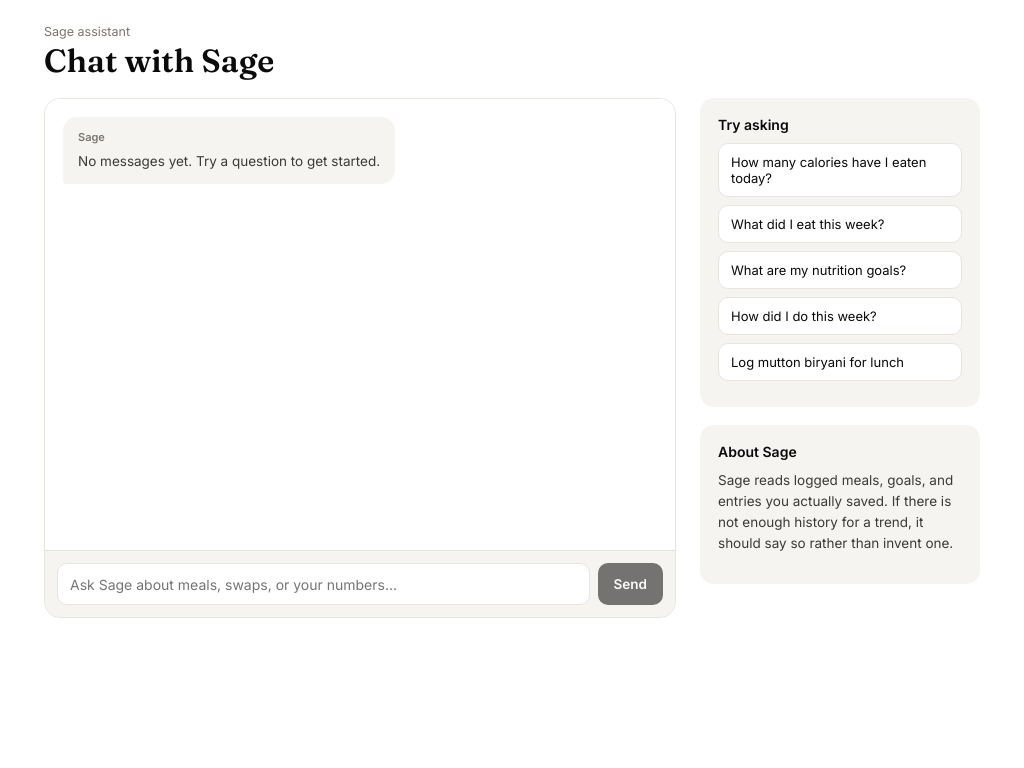
ChatPage › shows an API error
Type "Hello" into the field named "Message". click: point(323, 584)
box: [57, 563, 590, 605]
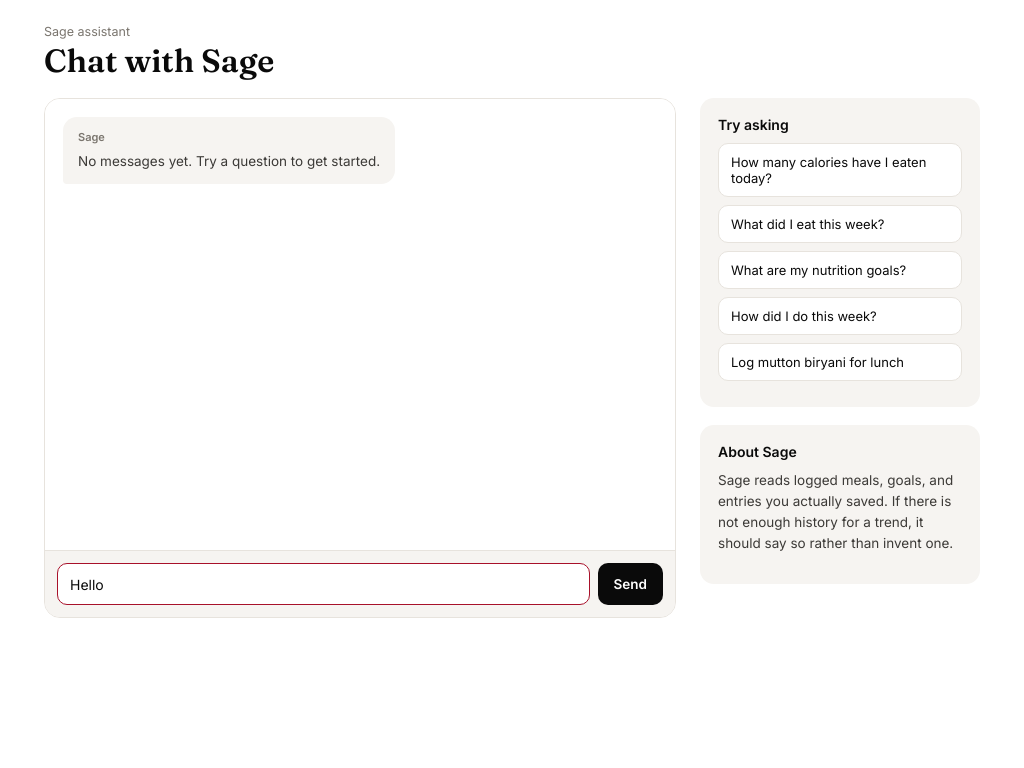
Click the button "Send". click: point(630, 584)
box: [598, 563, 663, 605]
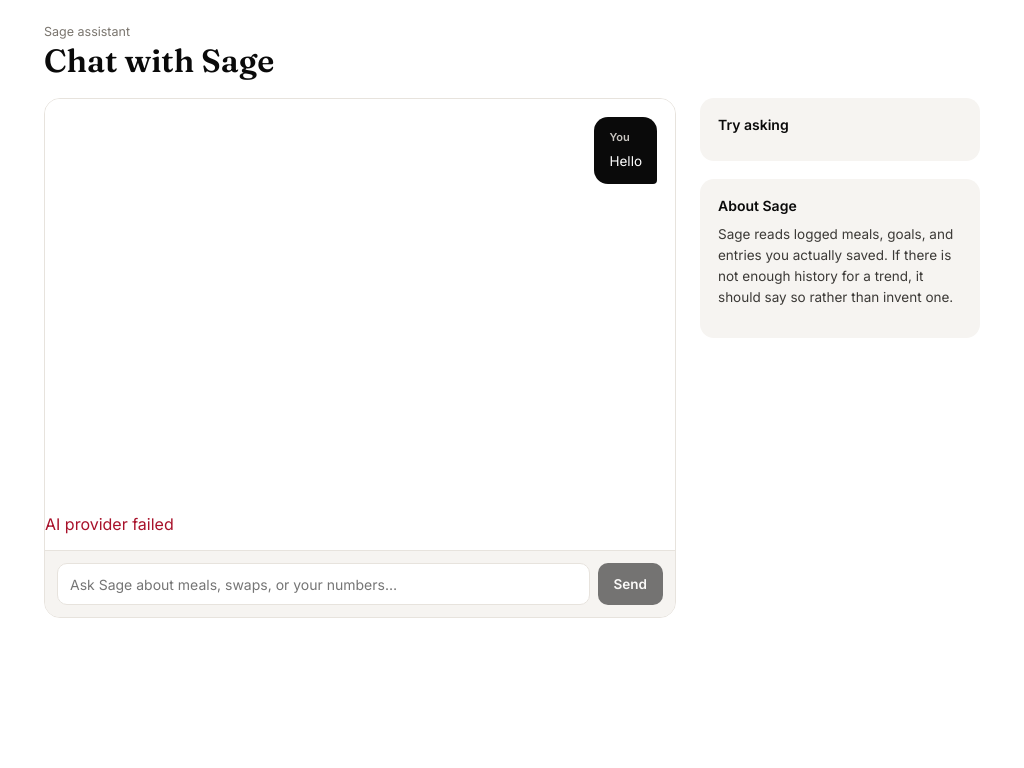
Now the message reads "AI provider failed", box [45, 514, 174, 534]
